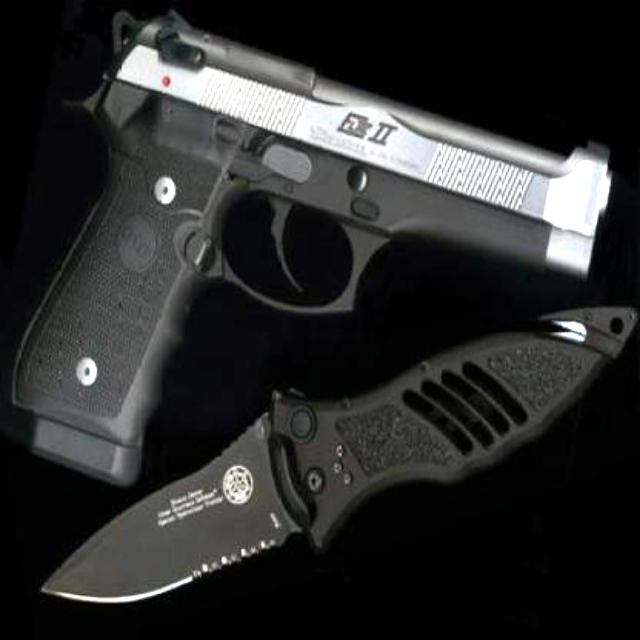pocket-knife: (50, 310, 626, 616)
